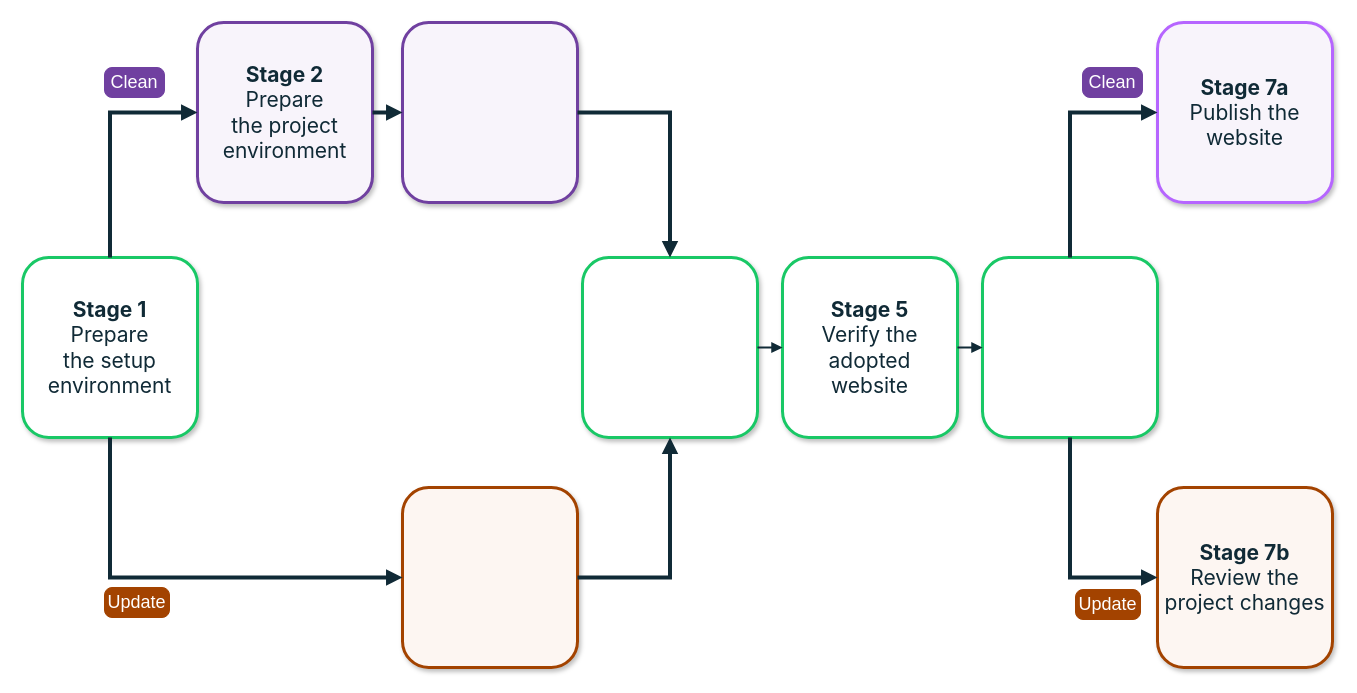
Image size: 1357x693. Some labels were removed from this diagram. Here are the shapes that lost their labels. From the top down, the centre of each, then its label:
the point at 490,113: Stage 3a Install and prove Zensical
the point at 670,349: Stage 4 Add and configure Prodockit
the point at 1070,349: Stage 6 Add downloadable outputs
the point at 490,579: Stage 3b Return to Zensical environment
